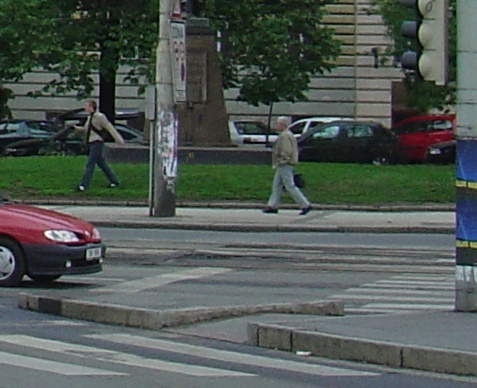person: (70, 96, 122, 190), (264, 111, 308, 213)
